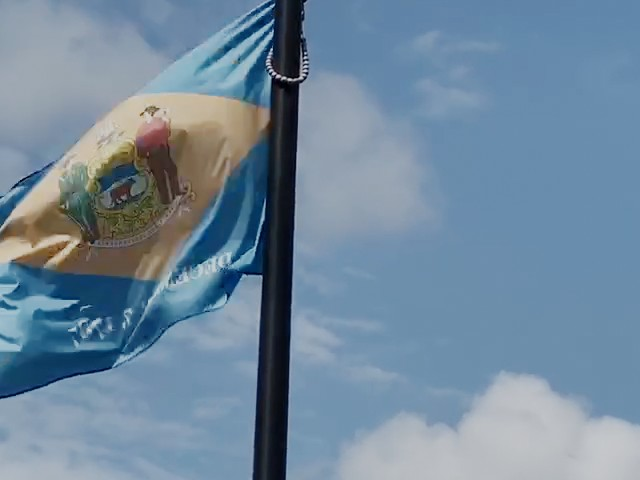Delaware flag: (4, 6, 273, 403)
